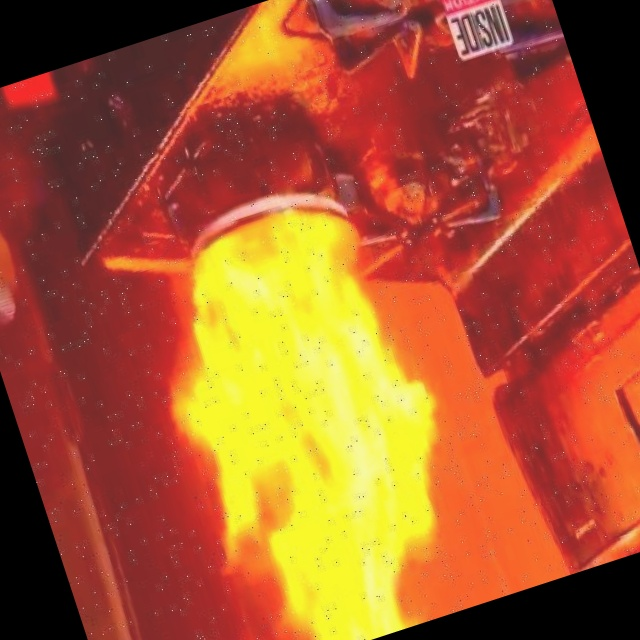fire: (89, 115, 519, 640)
